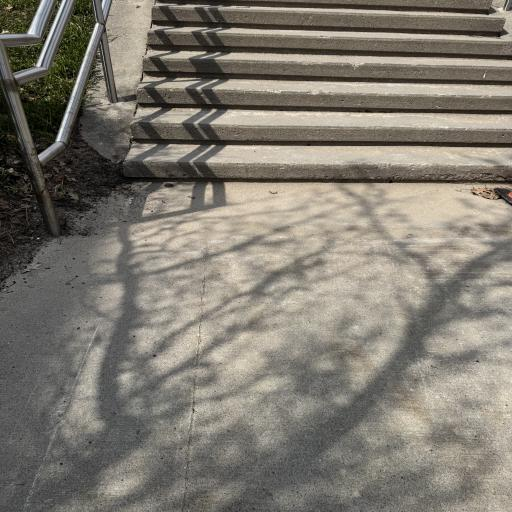Stairs: (124, 0, 512, 180)
